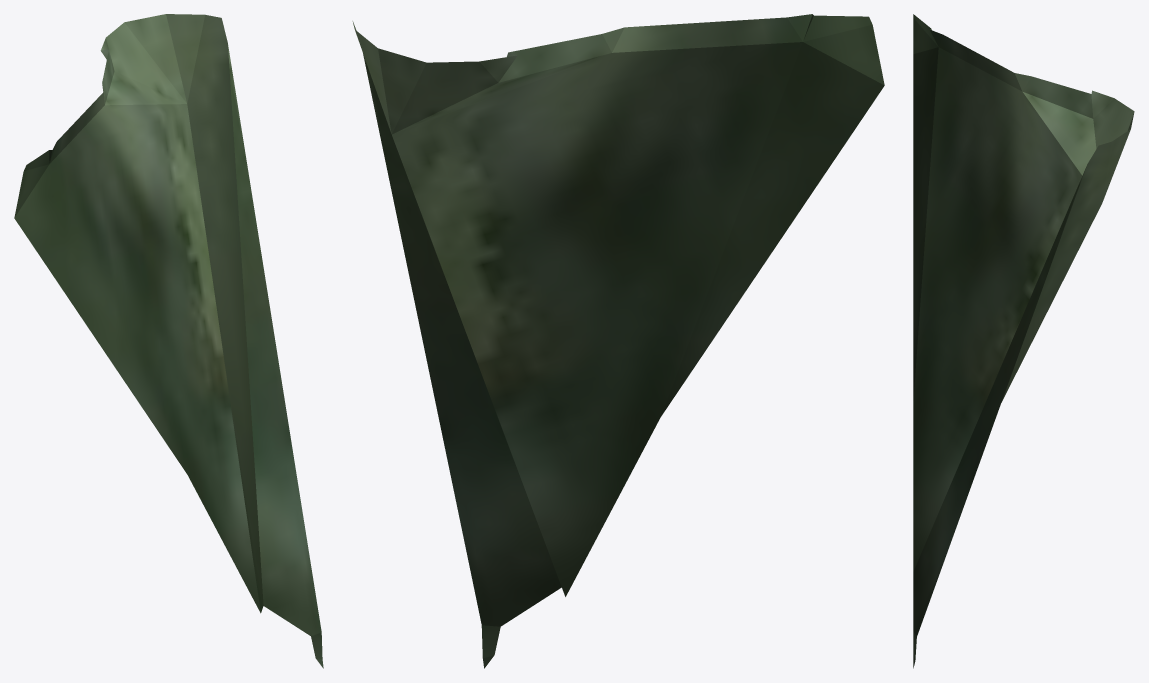
The picture shows the model from 3 angles, left to right: view 1: azimuth 30°, elevation 25°; view 2: azimuth 150°, elevation 25°; view 3: azimuth 270°, elevation 25°; orthographic projection. The views are drawn at different scales.
Size of the model in its own units: 0.4081 by 0.7266 by 0.2783.
1 material, 1 textured.
